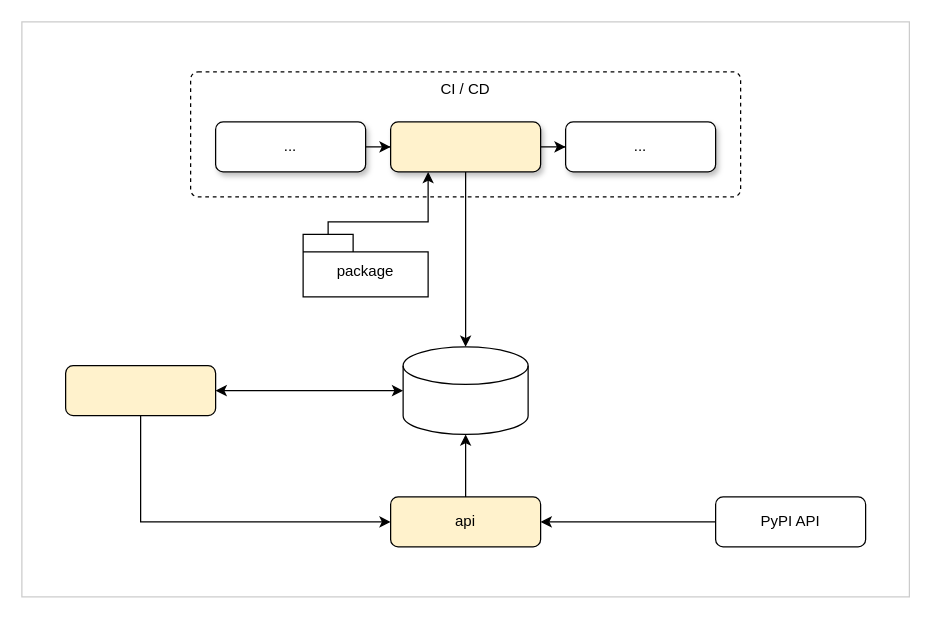
Some shapes in this 931 by 619 pixel diagram are drawn without their labels. The centre of each missing label's shape, as x and y in pixels:
ci-image: pixel 466 148
database: pixel 465 390
webapp: pixel 140 390
